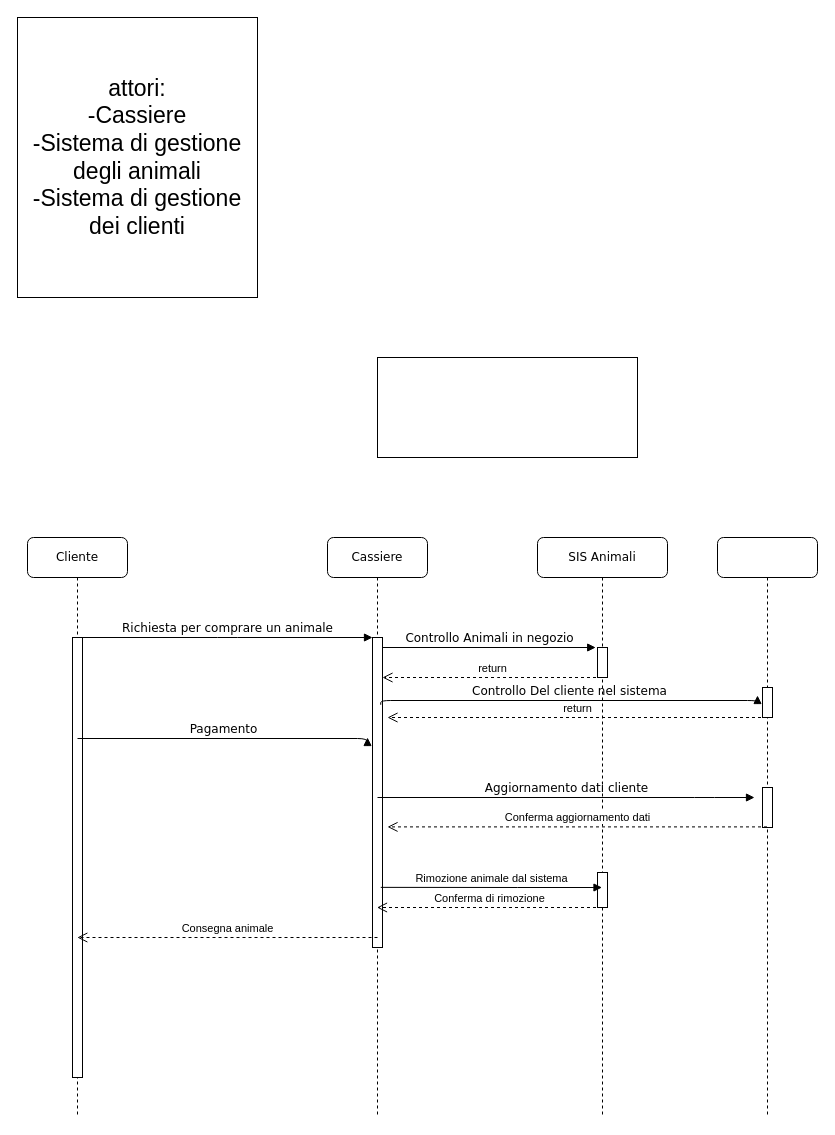
The diagram is 835 pixels wide and 1135 high, and some of its shapes have lost their labels. The shapes that lost their labels are listed below. From the top down, each one's centre as x and y in pixels, then its label:
At (x=507, y=407): "VENDITA ANIMALE".
At (x=767, y=827): "Sistema Clienti".
